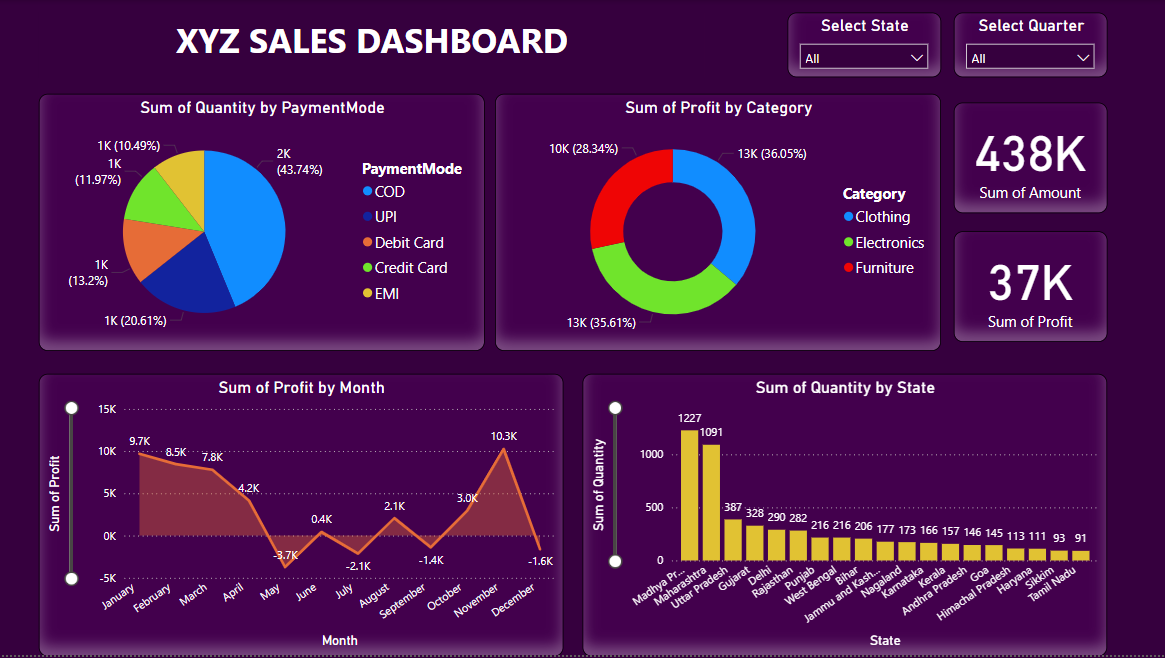

The dashboard page shown, as its layout file describes it:
{"tool":"powerbi","page":{"name":"Page 1","canvas":[1280,720],"ordinal":0},"visuals":[{"type":"lineChart","fields":{"Category":["Orders.Order Date.Variation.Date Hierarchy.Month"],"Y":["Sum(Details.Profit)"]},"box":[42.9,410,575.7,310],"z":0},{"type":"columnChart","fields":{"Y":["Sum(Details.Quantity)"],"Category":["Orders.State"]},"box":[640,410,575.7,310],"z":1000},{"type":"pieChart","fields":{"Category":["Details.PaymentMode"],"Y":["Sum(Details.Quantity)"]},"box":[42.5,102.9,489.9,282.7],"z":2000},{"type":"donutChart","fields":{"Category":["Details.Category"],"Y":["Sum(Details.Profit)"]},"box":[543.4,102.9,489.9,282.7],"z":3000},{"type":"card","fields":{"Values":["Sum(Details.Amount)"]},"box":[1047.1,112.9,168.6,121.4],"z":4000},{"type":"card","fields":{"Values":["Sum(Details.Profit)"]},"box":[1047.1,254.3,168.6,121.4],"z":5000},{"type":"slicer","title":"Select State","fields":{"Values":["Orders.State"]},"box":[864.3,14.3,168.6,71.4],"z":6000},{"type":"slicer","title":"Select Quarter","fields":{"Values":["Orders.Order Date.Variation.Date Hierarchy.Quarter"]},"box":[1047.1,14.3,168.6,71.4],"z":7000},{"type":"textbox","box":[42.9,14.3,731.4,71.4],"z":7001}]}

Visuals, with their boxes in screenshot pixels (x1, y1, x2, y2), scaled from the page's 1280x720 canvas onto the 1165x658 screenshot:
lineChart - Orders.Order Date.Variation.Date Hierarchy.Month x Sum(Details.Profit): bbox=[39, 375, 563, 657]
columnChart - Sum(Details.Quantity) x Orders.State: bbox=[582, 375, 1106, 657]
pieChart - Details.PaymentMode x Sum(Details.Quantity): bbox=[39, 94, 485, 352]
donutChart - Details.Category x Sum(Details.Profit): bbox=[495, 94, 940, 352]
card - Sum(Details.Amount): bbox=[953, 103, 1106, 214]
card - Sum(Details.Profit): bbox=[953, 232, 1106, 343]
"Select State" slicer: bbox=[787, 13, 940, 78]
"Select Quarter" slicer: bbox=[953, 13, 1106, 78]
textbox: bbox=[39, 13, 705, 78]
